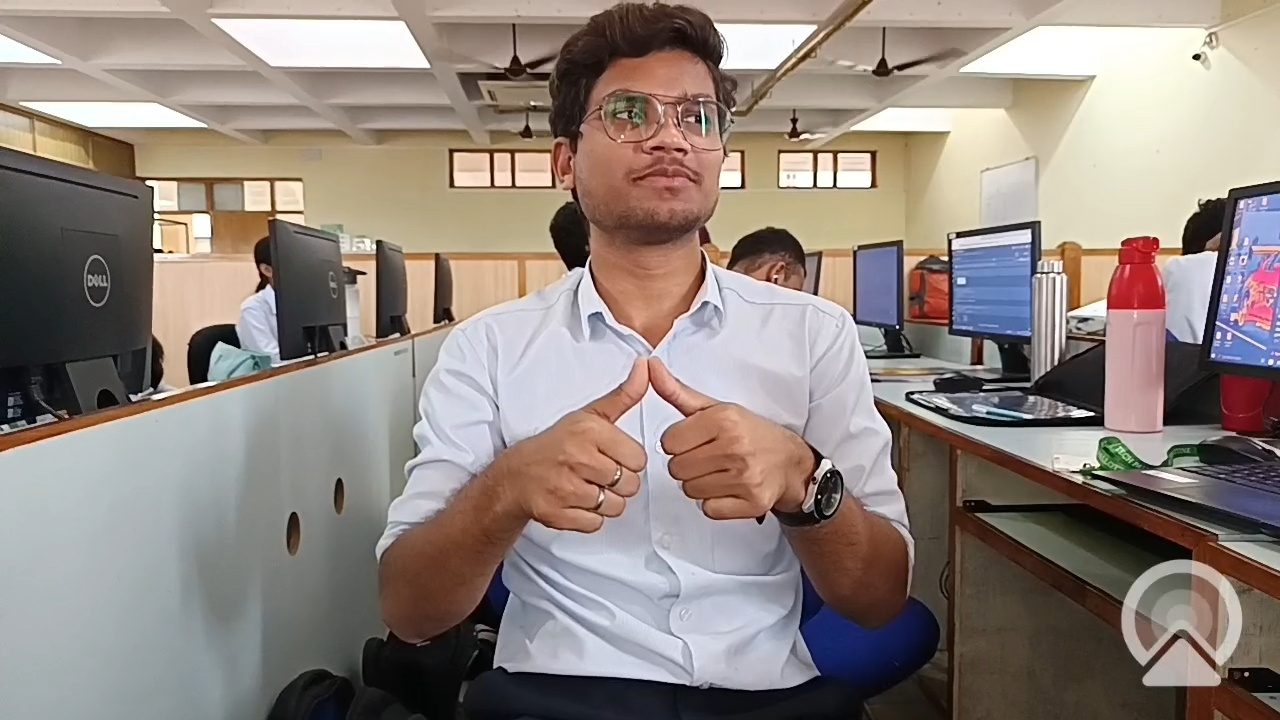A: (488, 296, 858, 585)
